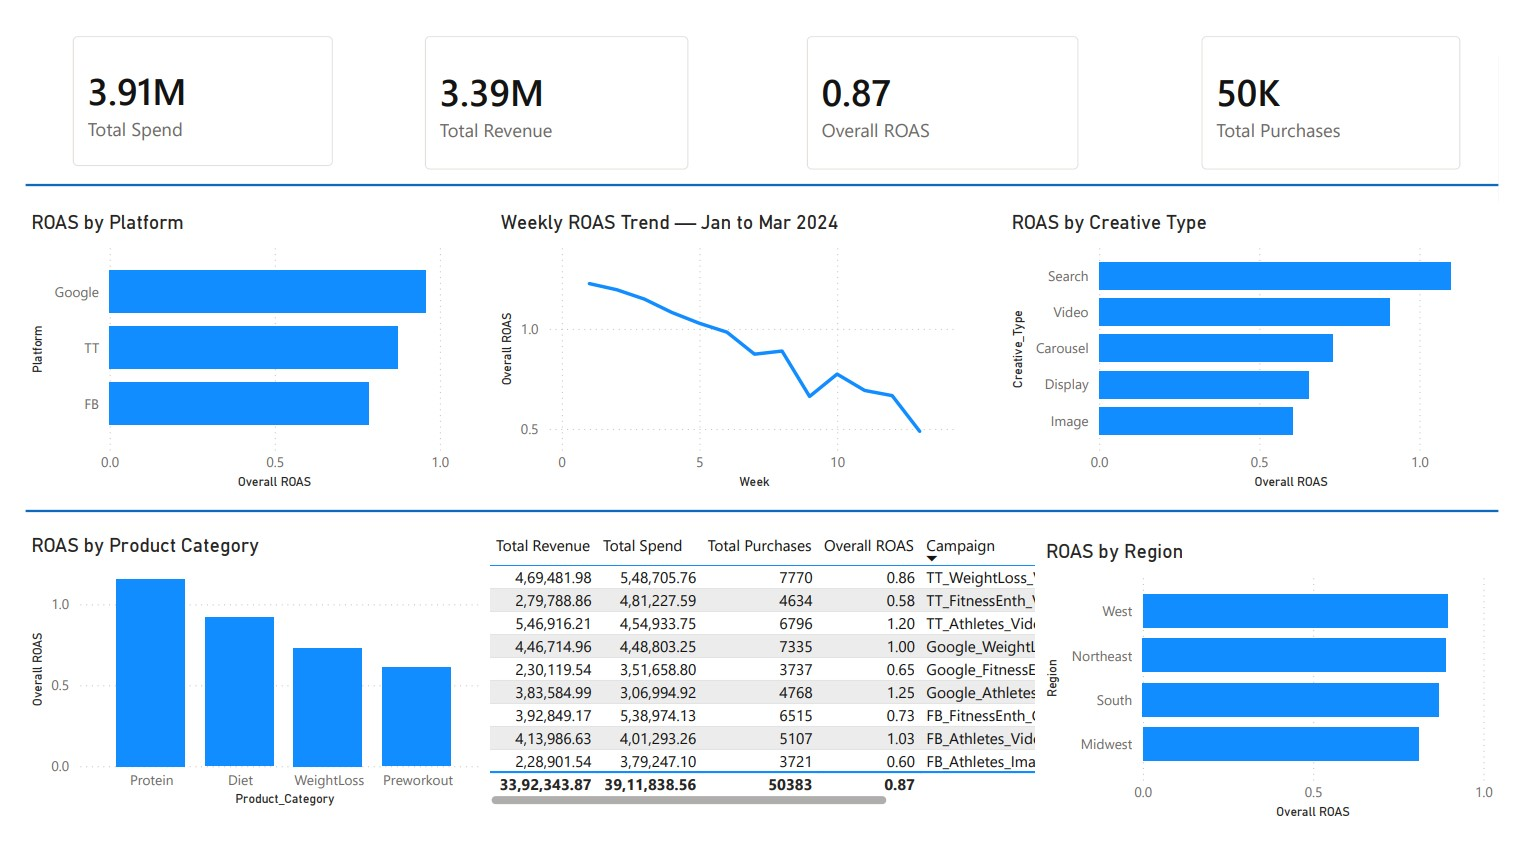

The dashboard page shown, as its layout file describes it:
{"tool":"powerbi","page":{"name":"Page 1","canvas":[1280,720],"ordinal":0},"visuals":[{"type":"cardVisual","fields":{"Data":["cleaned_analysis_data.Total Spend"]},"box":[24.3,0,259.7,146.9],"z":0},{"type":"cardVisual","fields":{"Data":["cleaned_analysis_data.Total Revenue"]},"box":[329.7,0,263.6,149.8],"z":1},{"type":"cardVisual","fields":{"Data":["cleaned_analysis_data.Overall ROAS"]},"box":[662.4,0,269.4,149.8],"z":2},{"type":"cardVisual","fields":{"Data":["cleaned_analysis_data.Total Purchases"]},"box":[1004.7,0,259.7,149.8],"z":3},{"type":"clusteredBarChart","title":"ROAS by Platform","fields":{"Category":["cleaned_analysis_data.Platform"],"Y":["cleaned_analysis_data.Overall ROAS"]},"box":[0,169.5,373.2,245.9],"z":4},{"type":"lineChart","title":"Weekly ROAS Trend — Jan to Mar 2024","fields":{"Y":["cleaned_analysis_data.Overall ROAS"],"Category":["cleaned_analysis_data.Week"]},"box":[408.3,168.6,407.4,246.7],"z":5},{"type":"clusteredBarChart","title":"ROAS by Creative Type","fields":{"Category":["cleaned_analysis_data.Creative_Type"],"Y":["cleaned_analysis_data.Overall ROAS"]},"box":[851.7,169.5,428.5,245.9],"z":6},{"type":"clusteredColumnChart","title":"ROAS by Product Category","fields":{"Category":["cleaned_analysis_data.Product_Category"],"Y":["cleaned_analysis_data.Overall ROAS"]},"box":[0,445.2,408.3,245.9],"z":7},{"type":"clusteredBarChart","title":"ROAS by Region","fields":{"Category":["cleaned_analysis_data.Region"],"Y":["cleaned_analysis_data.Overall ROAS"]},"box":[882.4,454.8,397.8,246.7],"z":8},{"type":"tableEx","fields":{"Values":["cleaned_analysis_data.Total Revenue","cleaned_analysis_data.Total Spend","cleaned_analysis_data.Total Purchases","cleaned_analysis_data.Overall ROAS","cleaned_analysis_data.Campaign"]},"box":[397.8,445.2,484.7,245.9],"z":9},{"type":"shape","box":[0,108.9,1280.2,75.5],"z":10},{"type":"shape","box":[0,396.9,1280.2,65.9],"z":11}]}

Visuals, with their boxes in screenshot pixels (x1, y1, x2, y2), scaled from the page's 1280x720 canvas onto the 1526x844 screenshot:
cardVisual - cleaned_analysis_data.Total Spend: <region>29, 0, 339, 172</region>
cardVisual - cleaned_analysis_data.Total Revenue: <region>393, 0, 707, 176</region>
cardVisual - cleaned_analysis_data.Overall ROAS: <region>790, 0, 1111, 176</region>
cardVisual - cleaned_analysis_data.Total Purchases: <region>1198, 0, 1507, 176</region>
"ROAS by Platform" clusteredBarChart: <region>0, 199, 445, 487</region>
"Weekly ROAS Trend — Jan to Mar 2024" lineChart: <region>487, 198, 972, 487</region>
"ROAS by Creative Type" clusteredBarChart: <region>1015, 199, 1525, 487</region>
"ROAS by Product Category" clusteredColumnChart: <region>0, 522, 487, 810</region>
"ROAS by Region" clusteredBarChart: <region>1052, 533, 1525, 822</region>
tableEx - cleaned_analysis_data.Total Revenue x cleaned_analysis_data.Total Spend: <region>474, 522, 1052, 810</region>
shape: <region>0, 128, 1525, 216</region>
shape: <region>0, 465, 1525, 543</region>
